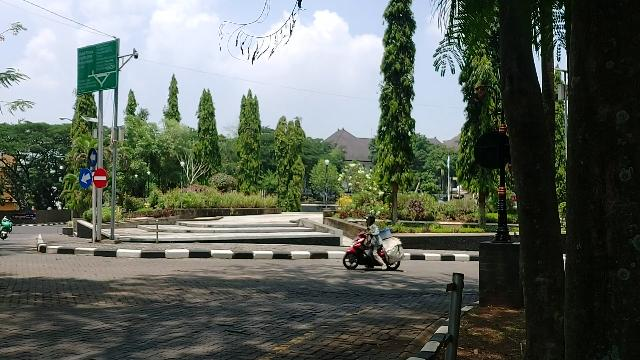helm: (365, 216, 377, 227)
motor: (343, 229, 403, 274)
